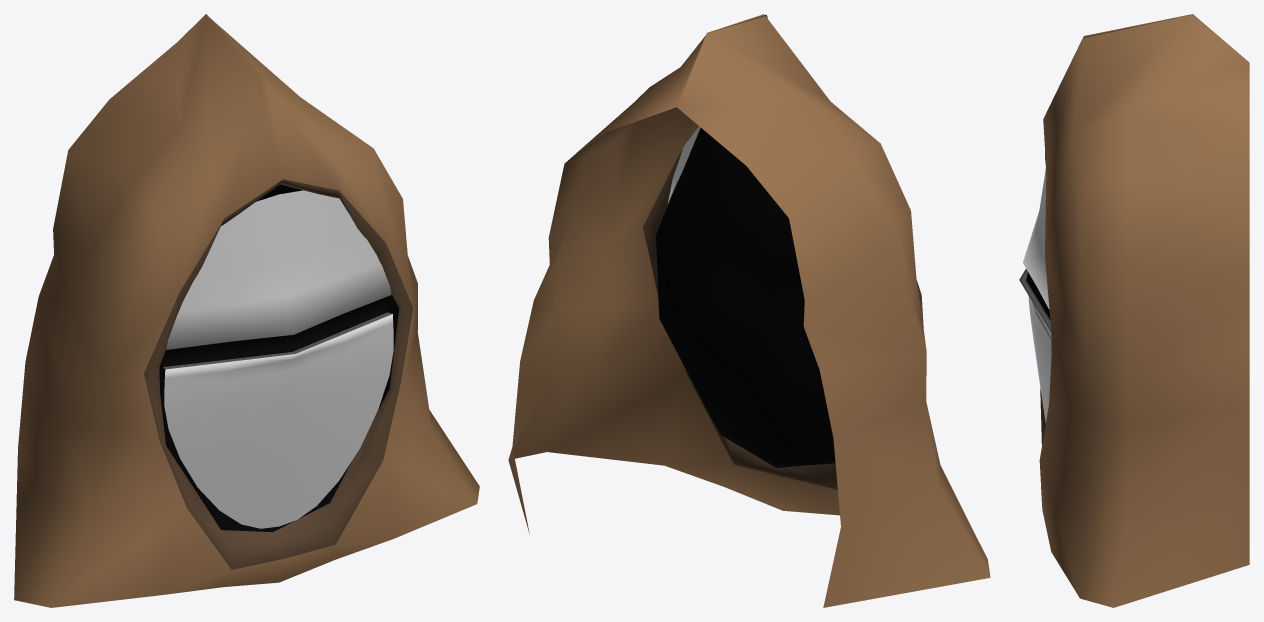
The model's file is head_test.glb.
The picture shows the model from 3 angles, left to right: view 1: azimuth 30°, elevation 25°; view 2: azimuth 150°, elevation 25°; view 3: azimuth 270°, elevation 25°; orthographic projection. The views are drawn at different scales.
Parts seen in each view (by area): view 1: Plane.002, Plane; view 2: Plane.002; view 3: Plane.002, Plane.
Boxes of the visible parts, x1,y1,x2,y2 form: Plane.002: (14, 14, 479, 607); Plane: (163, 190, 393, 528); Plane.002: (508, 14, 990, 607); Plane.002: (1039, 14, 1249, 607); Plane: (1019, 167, 1051, 423).
Bounding box in the file's own units: 2.74 × 2.89 × 1.21.
